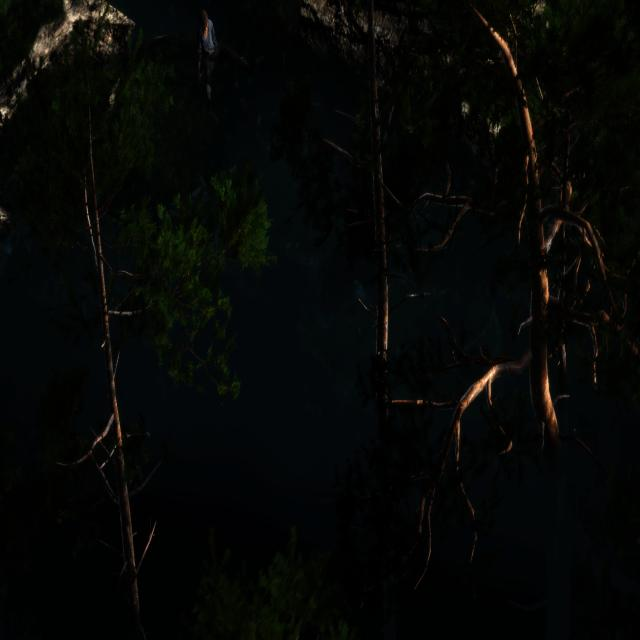Human: (193, 10, 260, 119)
